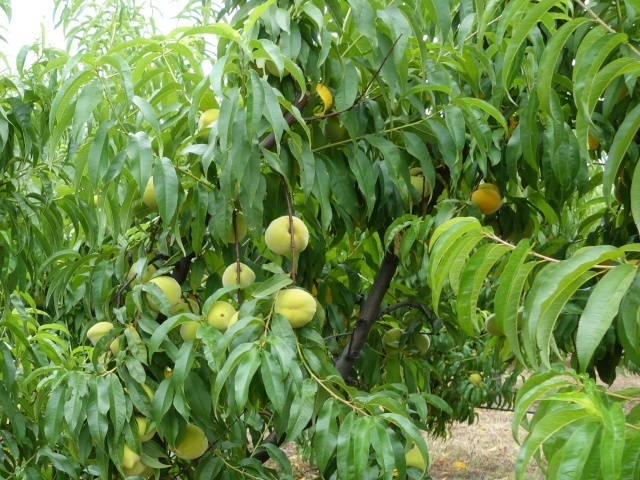peach: (259, 210, 311, 260), (270, 282, 318, 331), (168, 420, 210, 465), (142, 276, 184, 316), (217, 258, 256, 296), (201, 299, 241, 333), (191, 99, 226, 132), (178, 313, 210, 349), (86, 317, 119, 351), (224, 204, 251, 245), (469, 185, 503, 215), (378, 324, 407, 352)
